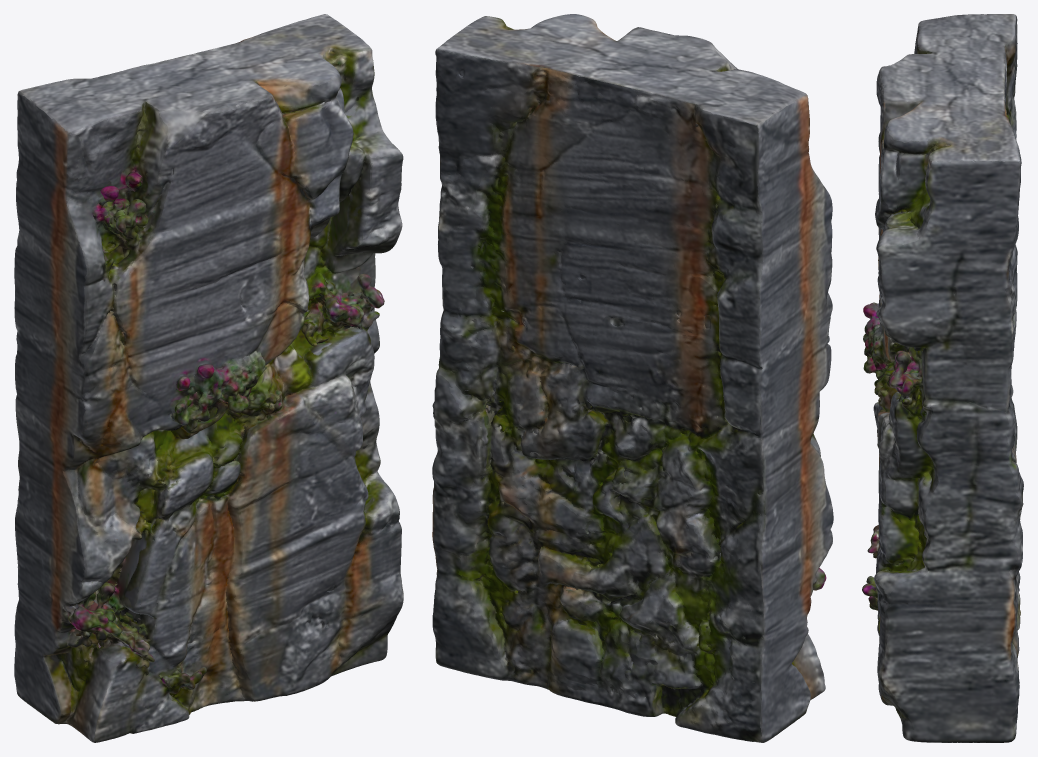
File: cliff-01.glb
The picture shows the model from 3 angles, left to right: view 1: azimuth 30°, elevation 25°; view 2: azimuth 150°, elevation 25°; view 3: azimuth 270°, elevation 25°; orthographic projection. The views are drawn at different scales.
Visible parts, largest first — view 1: geometry_0; view 2: geometry_0; view 3: geometry_0.
Boxes of the visible parts, x1=… form: geometry_0: x1=14, y1=14, x2=403, y2=742; geometry_0: x1=432, y1=14, x2=833, y2=742; geometry_0: x1=862, y1=14, x2=1023, y2=742.
Bounding box in the file's own units: 1.2 × 2.14 × 0.5359.
Materials: 1 (1 with a texture image).
